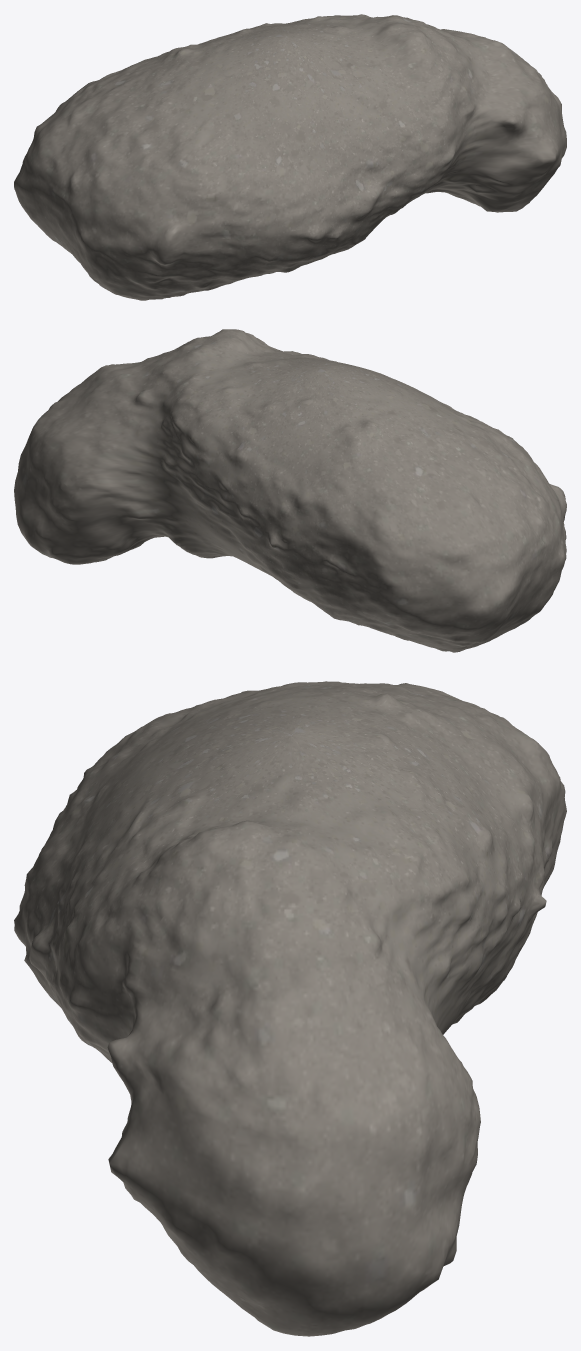
The model's file is itokawa.glb.
3 views of the same model, one above another, from view 1: azimuth 30°, elevation 25°; view 2: azimuth 150°, elevation 25°; view 3: azimuth 270°, elevation 25° (orthographic). The views are drawn at different scales.
Parts seen in each view (by area): view 1: itokawa; view 2: itokawa; view 3: itokawa.
Boxes of the visible parts, <box> form: itokawa: <box>14,14,566,300</box>; itokawa: <box>14,329,566,652</box>; itokawa: <box>14,681,566,1336</box>.
Size of the model in its own units: 0.5617 by 0.2434 by 0.3051.
Materials: 1 (1 with a texture image).
